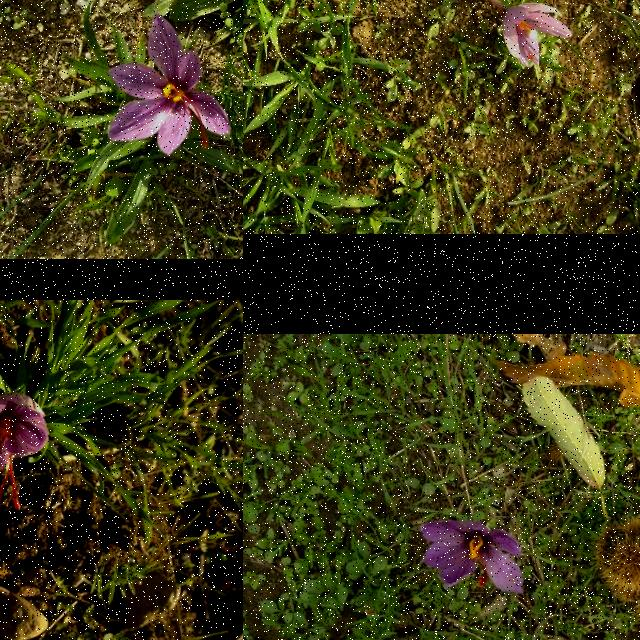flower: (107, 15, 231, 156), (420, 518, 526, 594), (0, 392, 49, 510), (501, 1, 575, 68)
